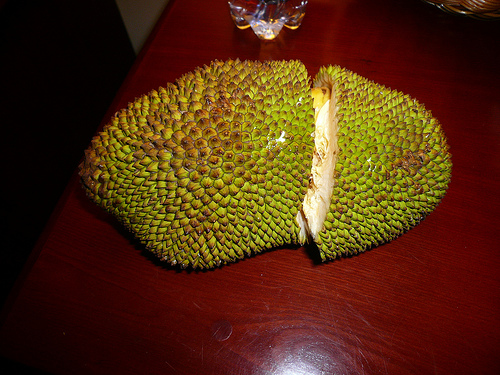jackfruit: (77, 57, 454, 271)
